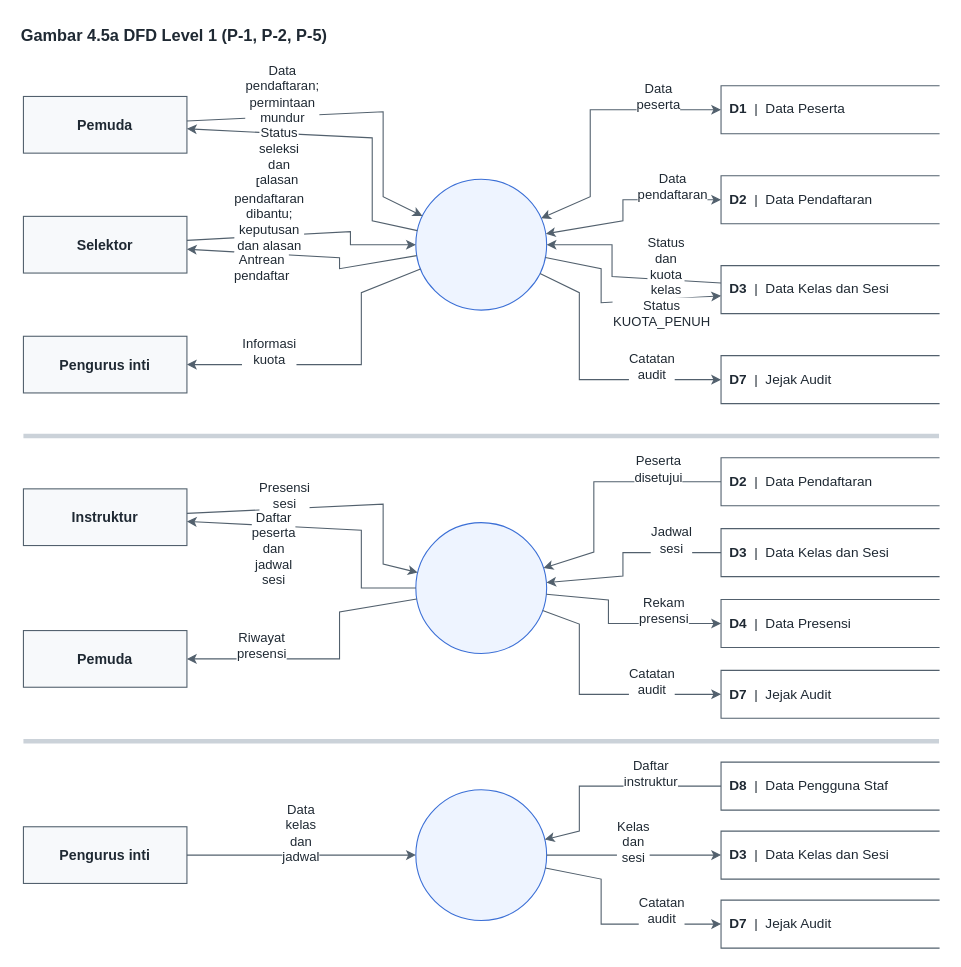
Image size: 961x967. Some labels were removed from this diagram. The centre of each missing label's shape, as x and y in pixels:
P-1 Kelola Pendaftaran dan Seleksi: the point at 481,244
P-2 Catat Presensi: the point at 481,587
P-5 Kelola Kelas dan Jadwal: the point at 481,855
